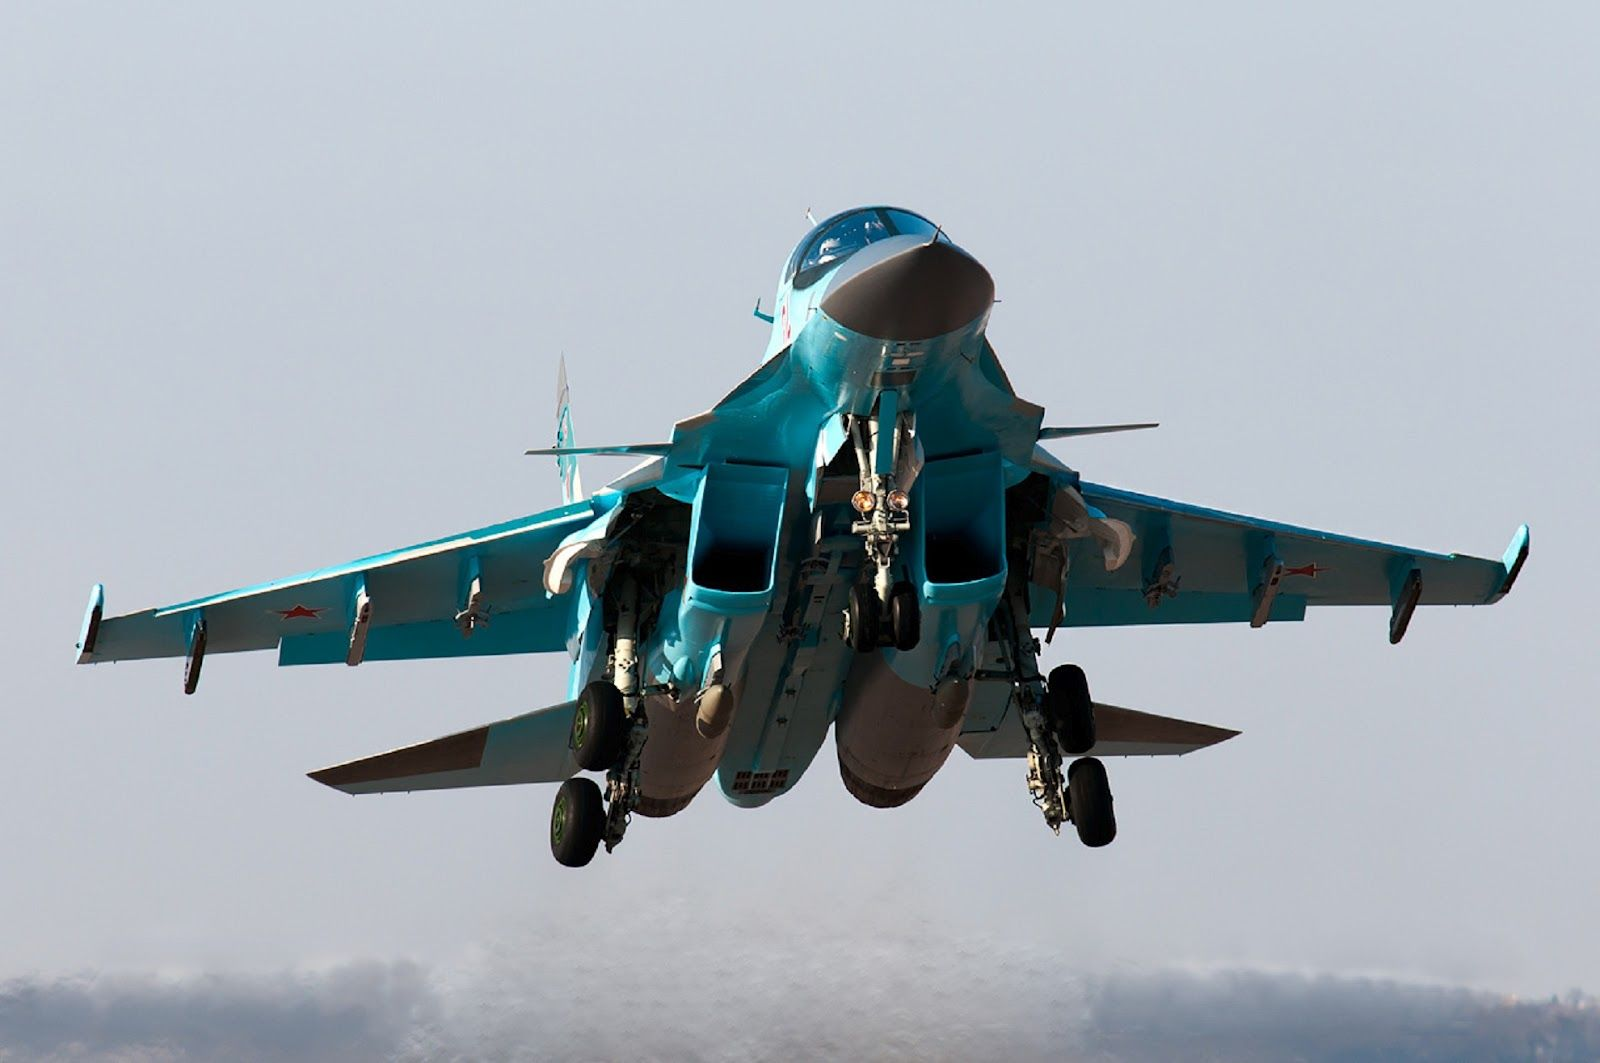Aeronef_militaire: (55, 198, 1541, 873)
